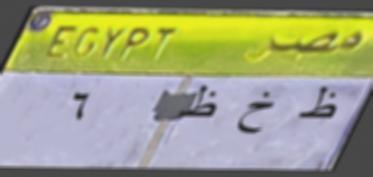6: (67, 88, 94, 130)
Thaa: (296, 82, 340, 130), (174, 82, 221, 126)
khaa: (234, 89, 280, 143)
